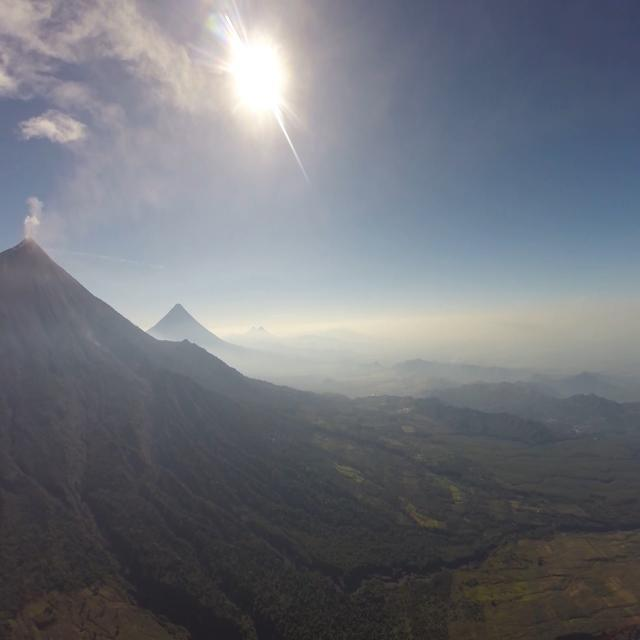Plume: (20, 198, 42, 232)
Summit: (3, 232, 40, 258)
